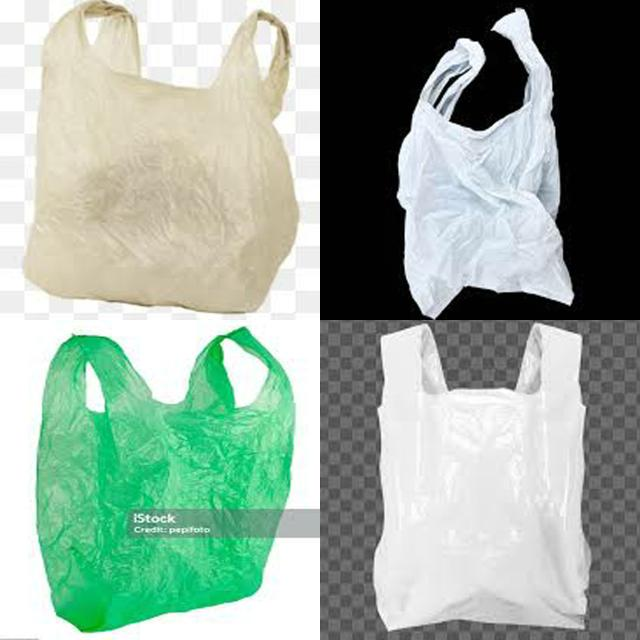Single-layer Plastic: (25, 0, 298, 312), (36, 328, 295, 631), (374, 324, 590, 630), (398, 9, 574, 318)
